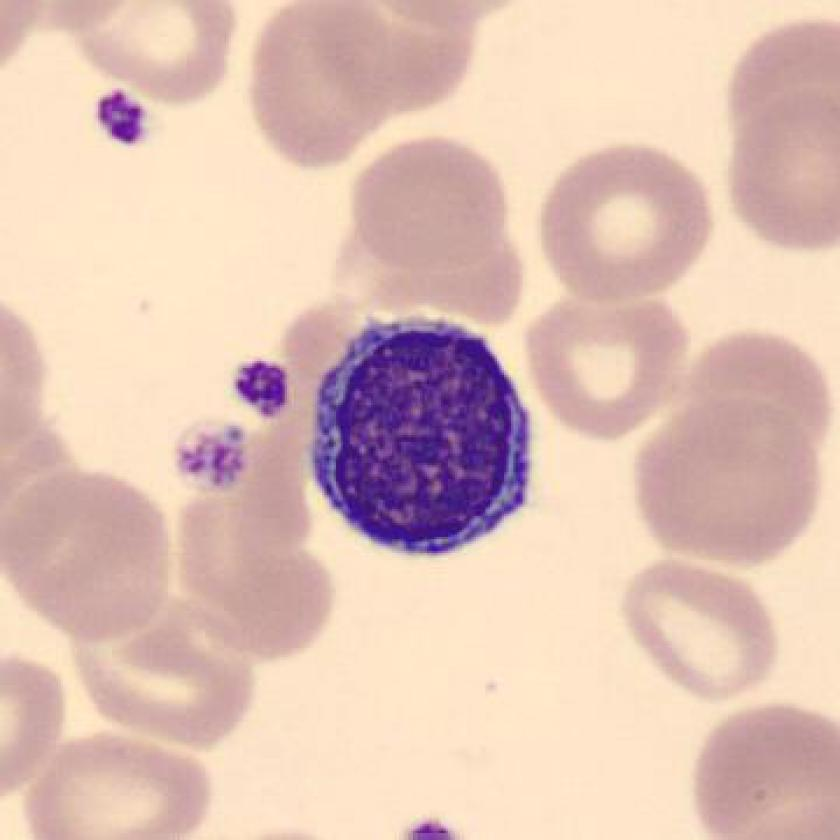lymphocyte: (293, 311, 552, 570)
platelets: (165, 415, 256, 494), (92, 86, 158, 151), (231, 354, 292, 419)
